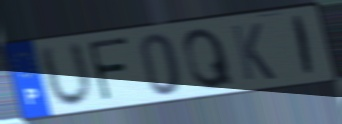0: (137, 30, 185, 98)
F: (85, 36, 132, 105)
I: (291, 13, 316, 80)
K: (228, 21, 278, 83)
Q: (181, 26, 237, 92)
U: (35, 39, 96, 111)
